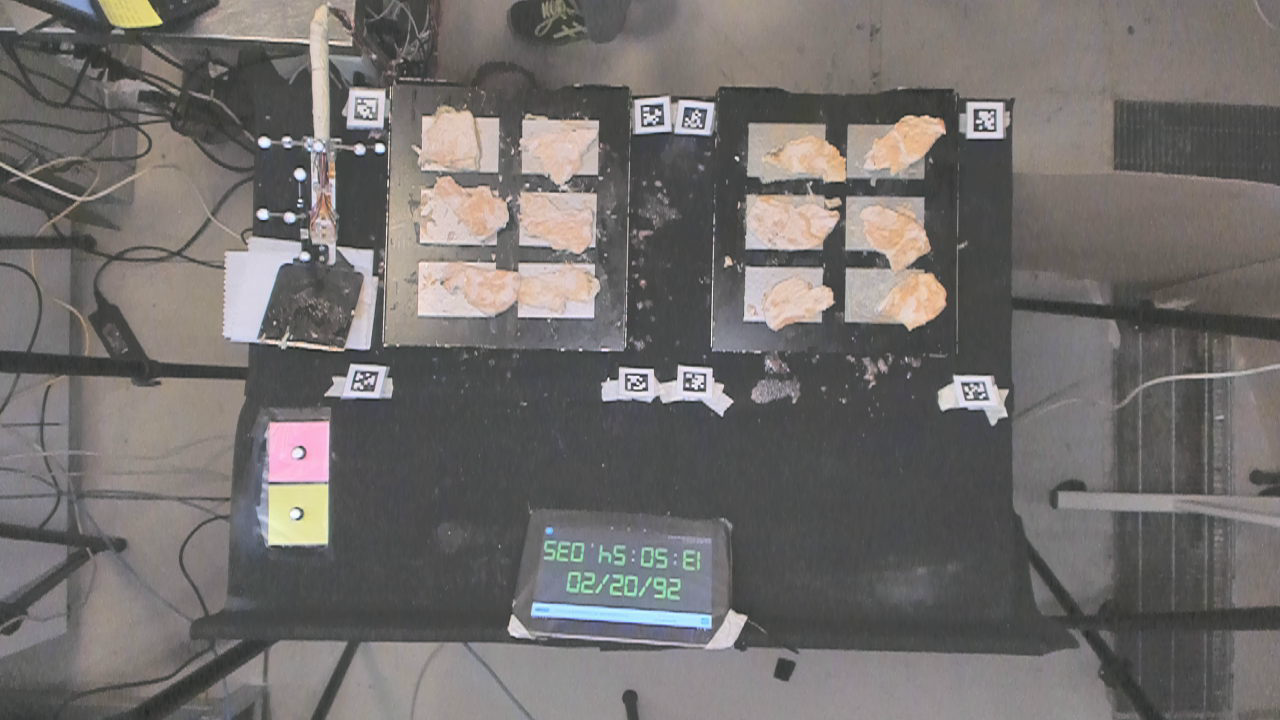chicken: (864, 111, 954, 180), (521, 111, 598, 184), (412, 98, 487, 169), (764, 270, 842, 337), (515, 188, 592, 255), (861, 202, 935, 271), (747, 192, 837, 247), (881, 268, 950, 333), (443, 255, 516, 315), (436, 180, 507, 237), (770, 128, 850, 178), (520, 267, 601, 313)
marker: (267, 421, 331, 482)
